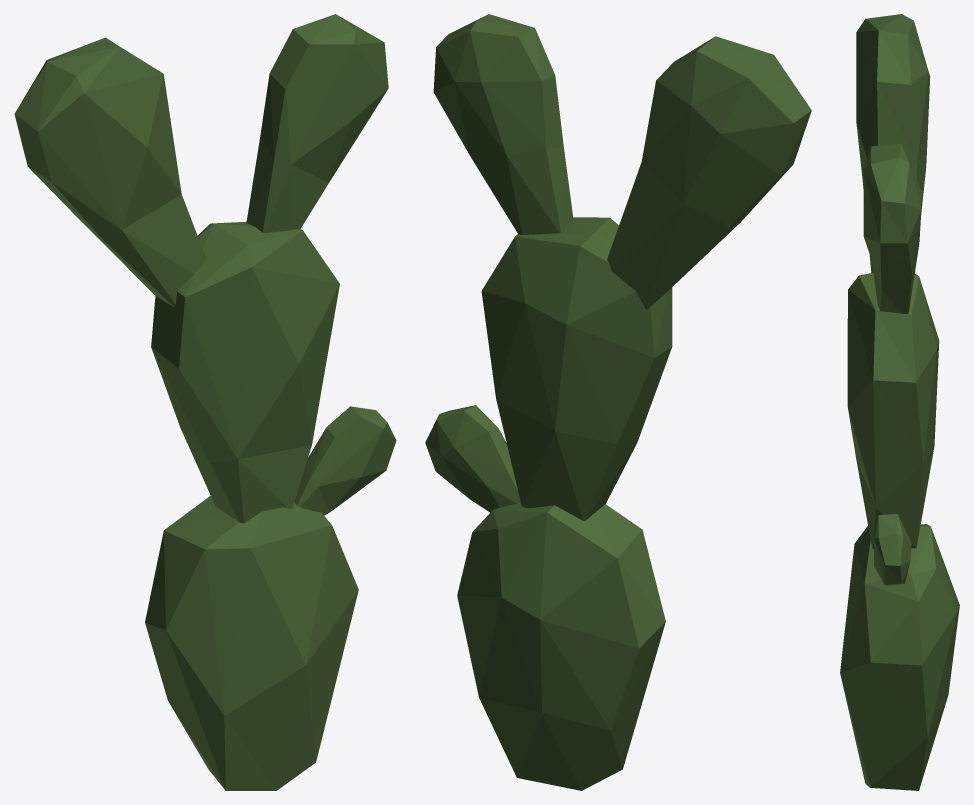
Rendered from SM_Envr_Nature_Plant_Desert_04.fbx.
3 renders of one model, left to right at view 1: azimuth 30°, elevation 25°; view 2: azimuth 150°, elevation 25°; view 3: azimuth 270°, elevation 25°, orthographic. The views are drawn at different scales.
Parts seen in each view (by area): view 1: SM_Envr_Nature_Plant_Desert_04; view 2: SM_Envr_Nature_Plant_Desert_04; view 3: SM_Envr_Nature_Plant_Desert_04.
Part boxes in pixels (<box>): SM_Envr_Nature_Plant_Desert_04: <box>14,14,396,790</box>; SM_Envr_Nature_Plant_Desert_04: <box>425,14,811,790</box>; SM_Envr_Nature_Plant_Desert_04: <box>840,14,959,790</box>.
Bounding box in the file's own units: 135 × 269 × 42.38.
